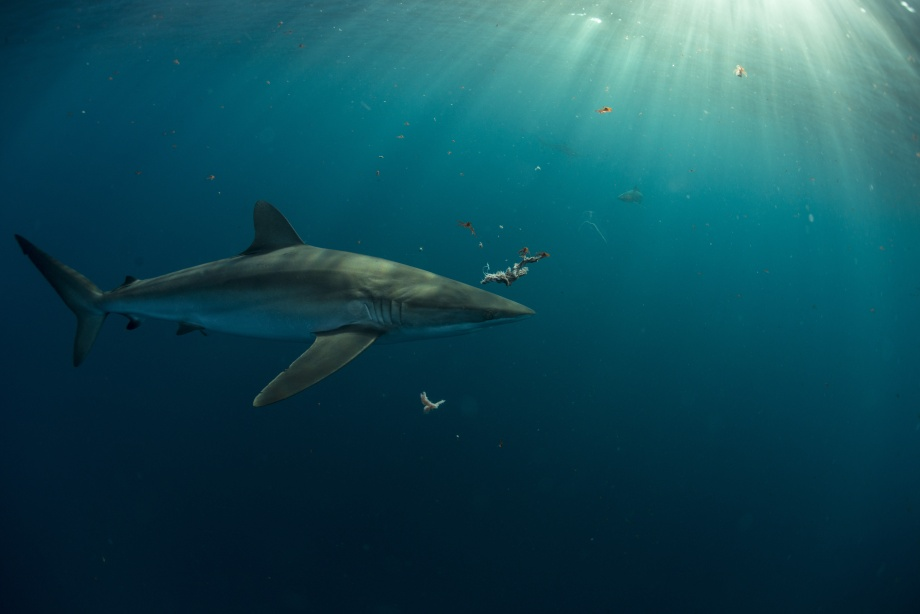Sedoso: (12, 196, 554, 426)
